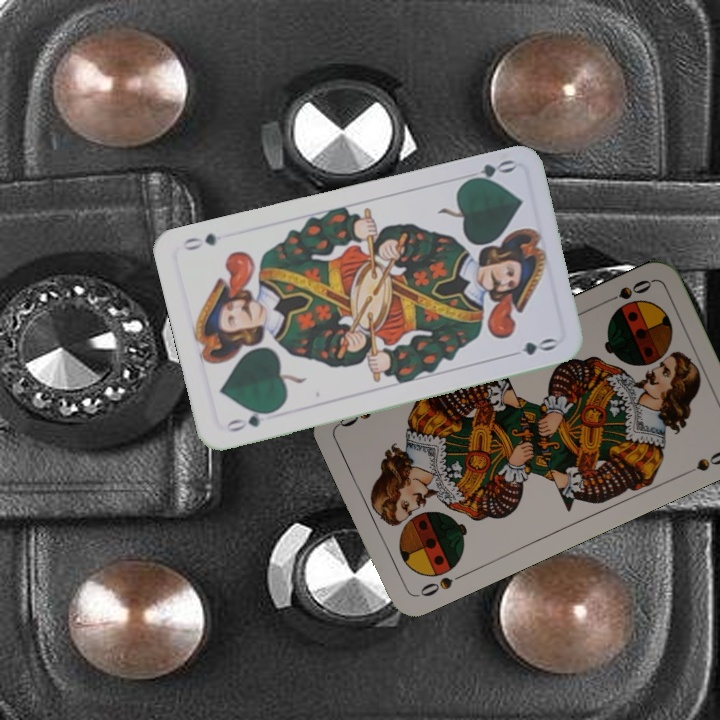GO: (460, 155, 517, 186), (221, 406, 278, 435)
SO: (598, 275, 655, 307), (413, 568, 469, 600)
